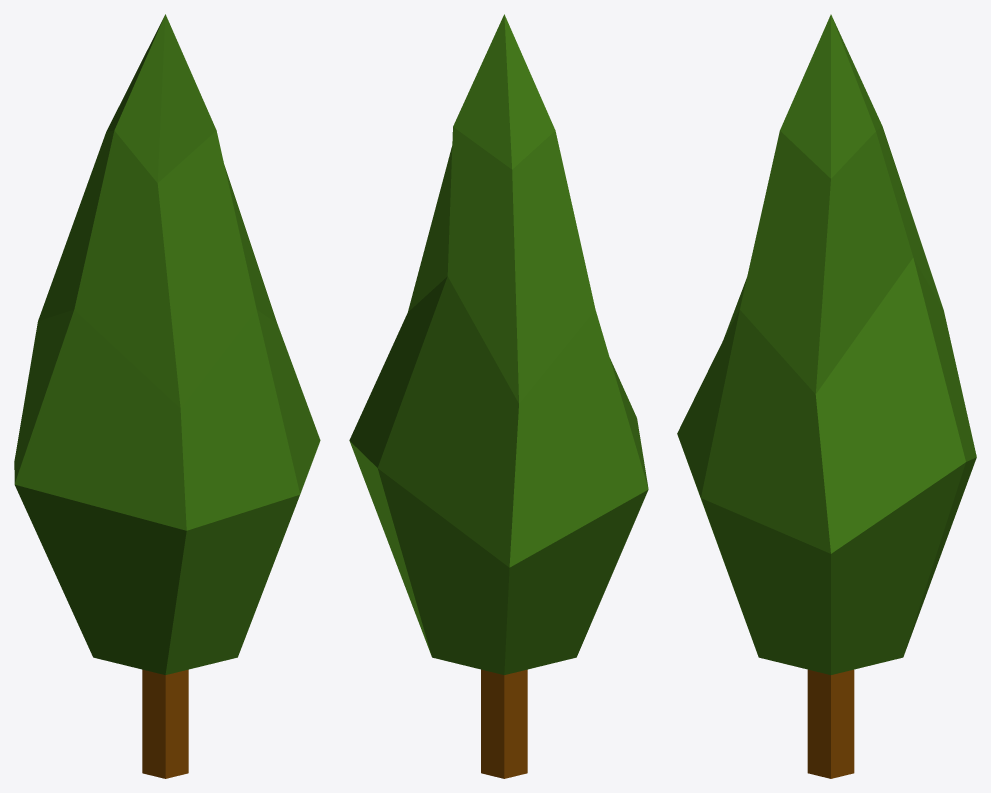
Rendered from drvo2.fbx.
The picture shows the model from 3 angles, left to right: view 1: azimuth 30°, elevation 25°; view 2: azimuth 150°, elevation 25°; view 3: azimuth 270°, elevation 25°; orthographic projection.
Visible parts, largest first — view 1: cempres:pCone9; view 2: cempres:pCone9; view 3: cempres:pCone9.
Part boxes in pixels (bbox=[...]): cempres:pCone9: bbox=[14, 14, 320, 778]; cempres:pCone9: bbox=[349, 14, 648, 778]; cempres:pCone9: bbox=[677, 14, 976, 778].
Size of the model in its own units: 295 by 703 by 253.
